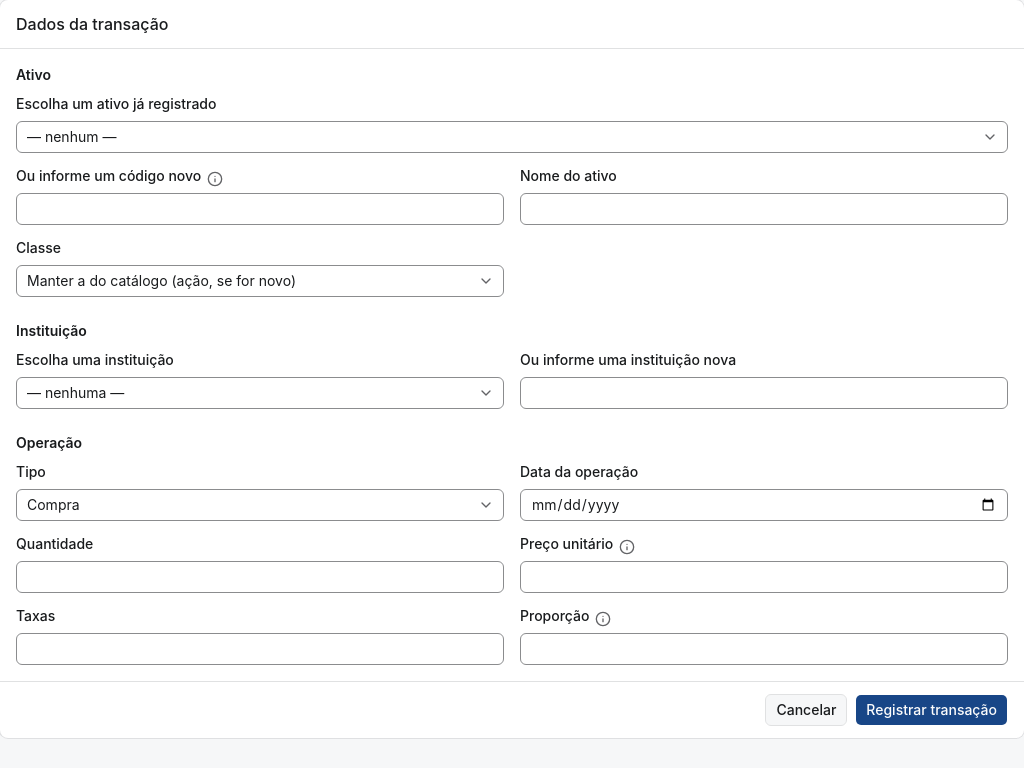
Test case: TransactionForm › keeps a refusal about the whole transaction in the banner
The image size is (1024, 768).
Type "2026-04-01" into the date field labelled "Data da operação" at (764, 505), box [520,489,1008,521]
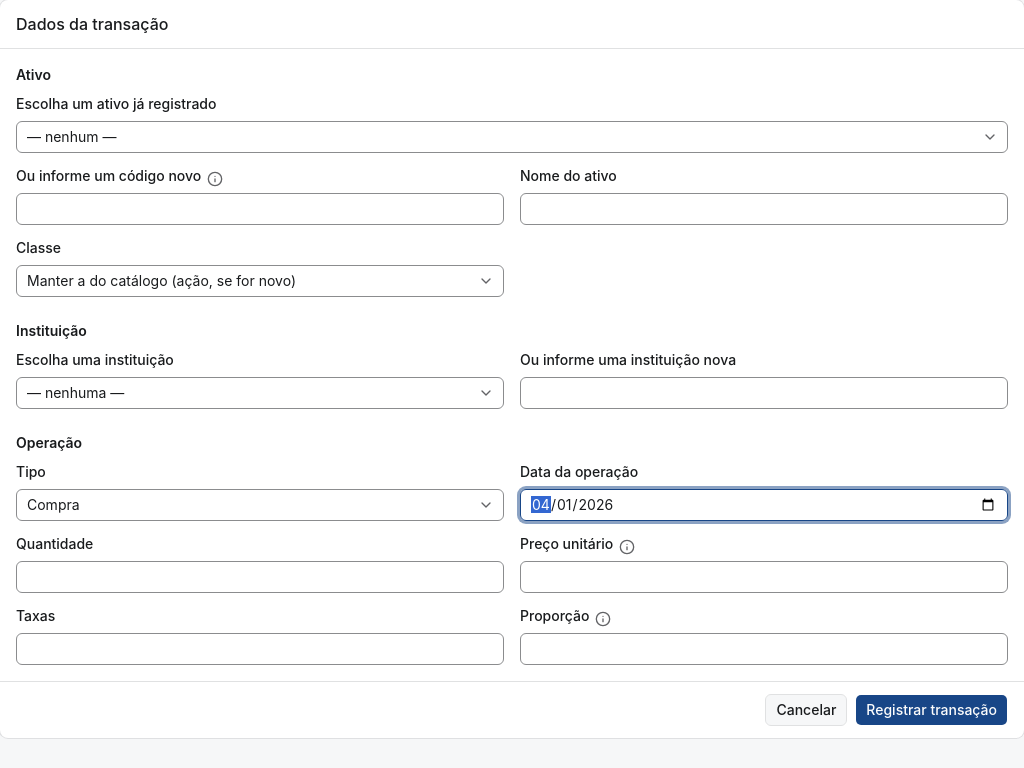
Type "999" into the field labelled "Quantidade" at (260, 577), box [16,561,504,593]
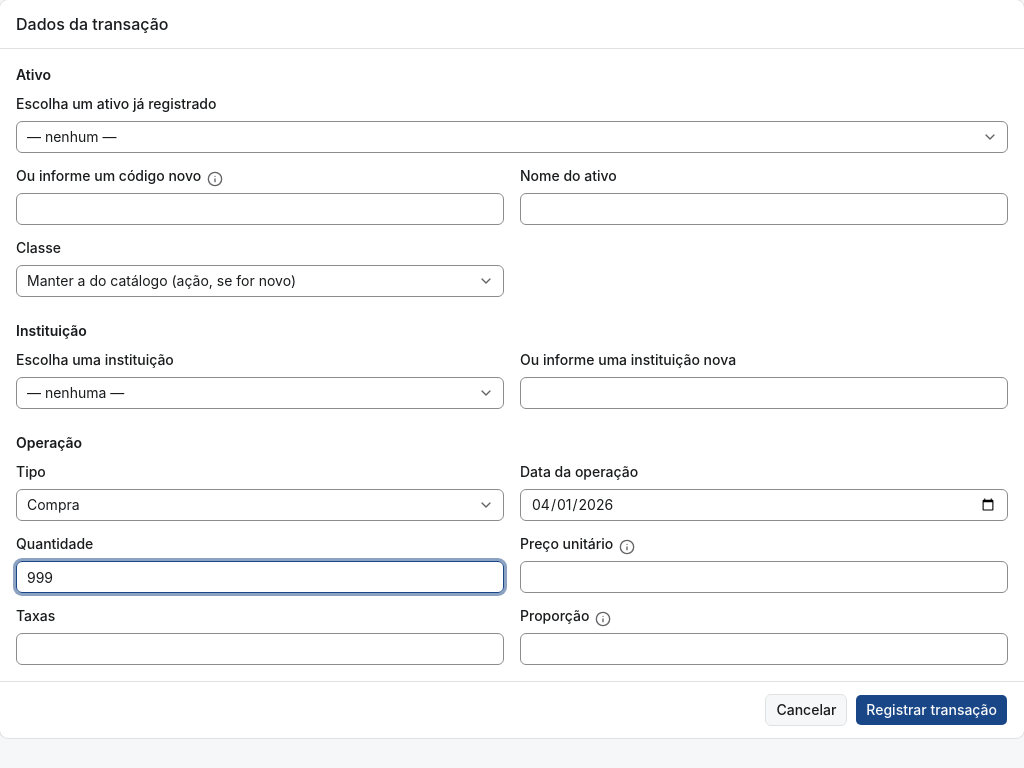
Type "1" into the field labelled "Preço unitário" at (764, 577), box [520,561,1008,593]
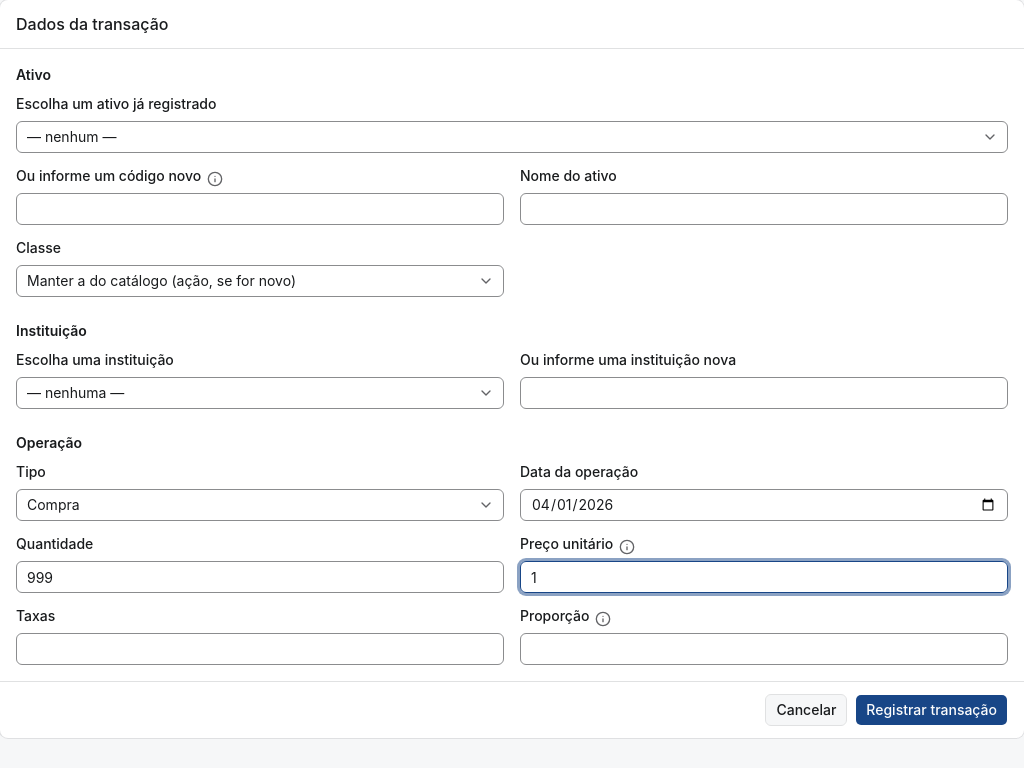
Click the button "Registrar transação" at (932, 710), box [855,694,1008,726]
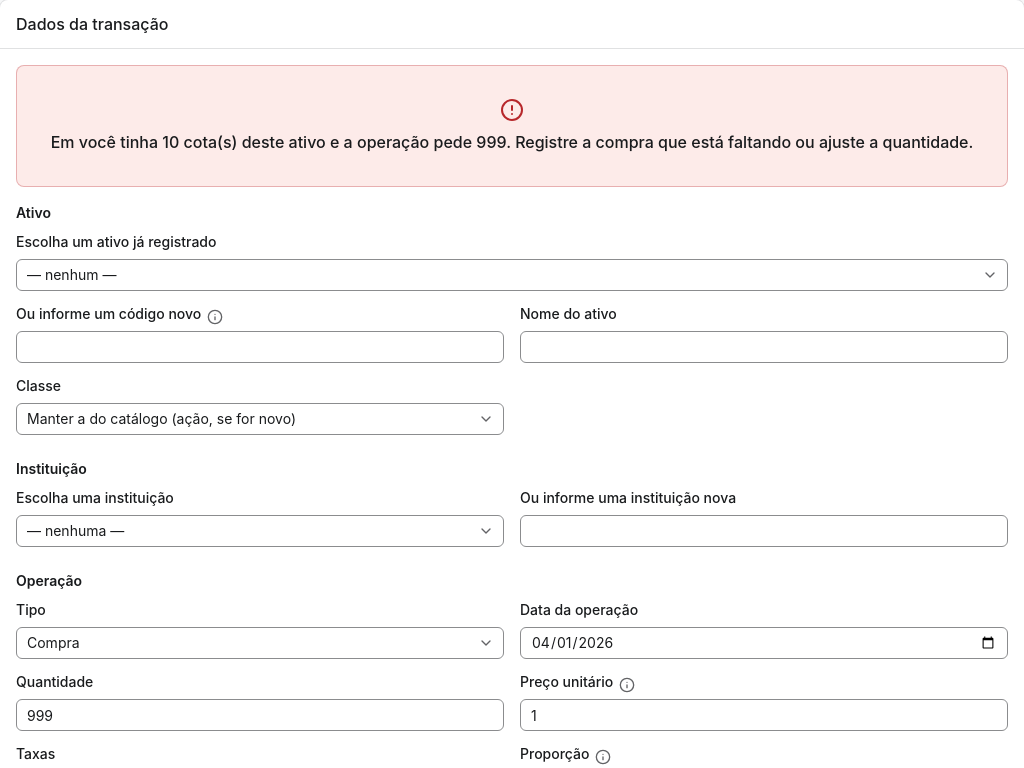
Check: the message is shown, box [16,65,1008,187]
